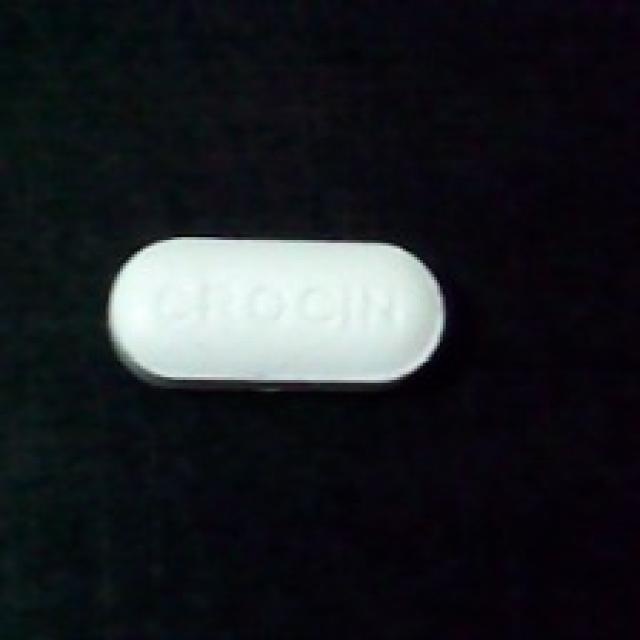no-defect: (103, 226, 451, 394)
